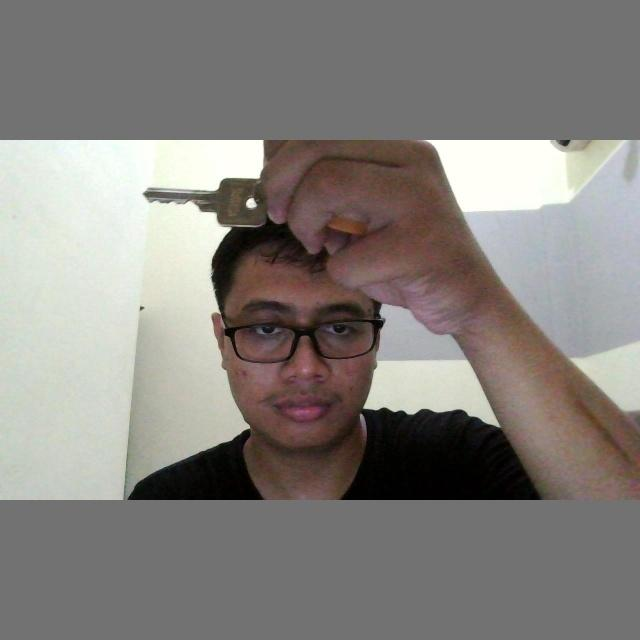Keys: (138, 171, 274, 233)
